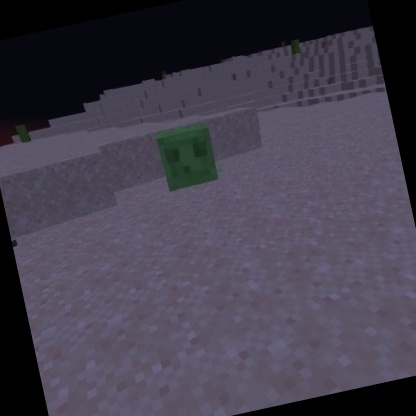slime: (153, 119, 222, 196)
